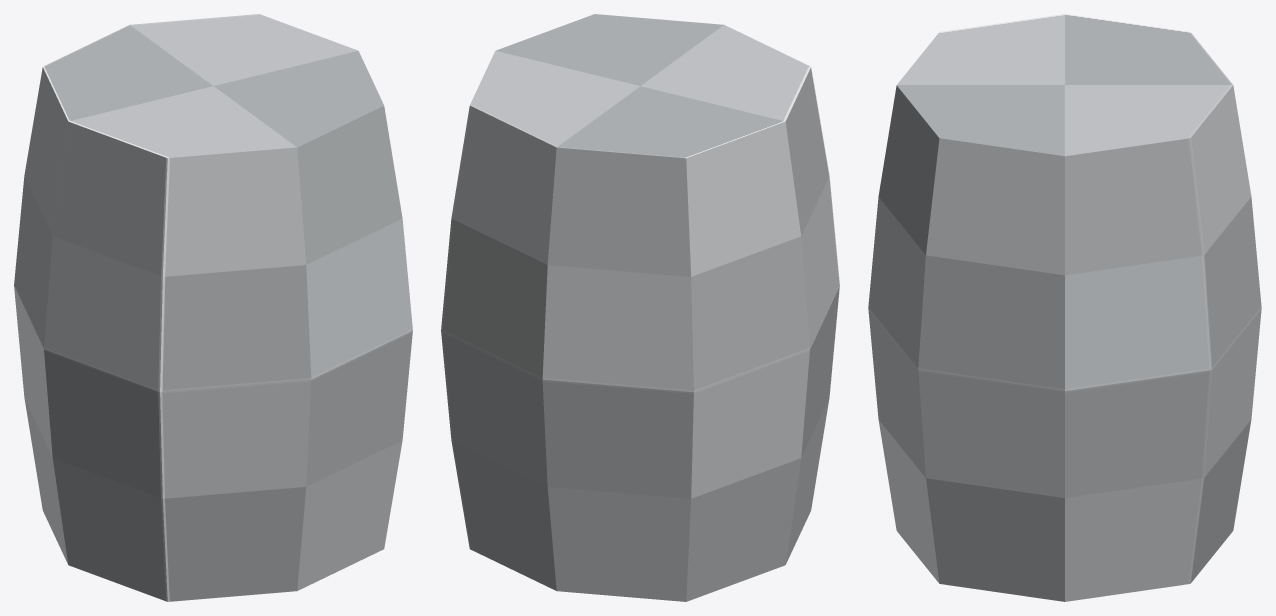
File: barrel.glb
The picture shows the model from 3 angles, left to right: view 1: azimuth 30°, elevation 25°; view 2: azimuth 150°, elevation 25°; view 3: azimuth 270°, elevation 25°; orthographic projection.
Visible parts, largest first — view 1: barrel; view 2: barrel; view 3: barrel.
Part boxes in pixels (left/top/right/bottom): barrel: left=14, top=14, right=412, bottom=601; barrel: left=441, top=14, right=839, bottom=601; barrel: left=868, top=14, right=1261, bottom=601.
Bounding box in the file's own units: 0.4 × 0.5 × 0.4.
1 material, 1 textured.
